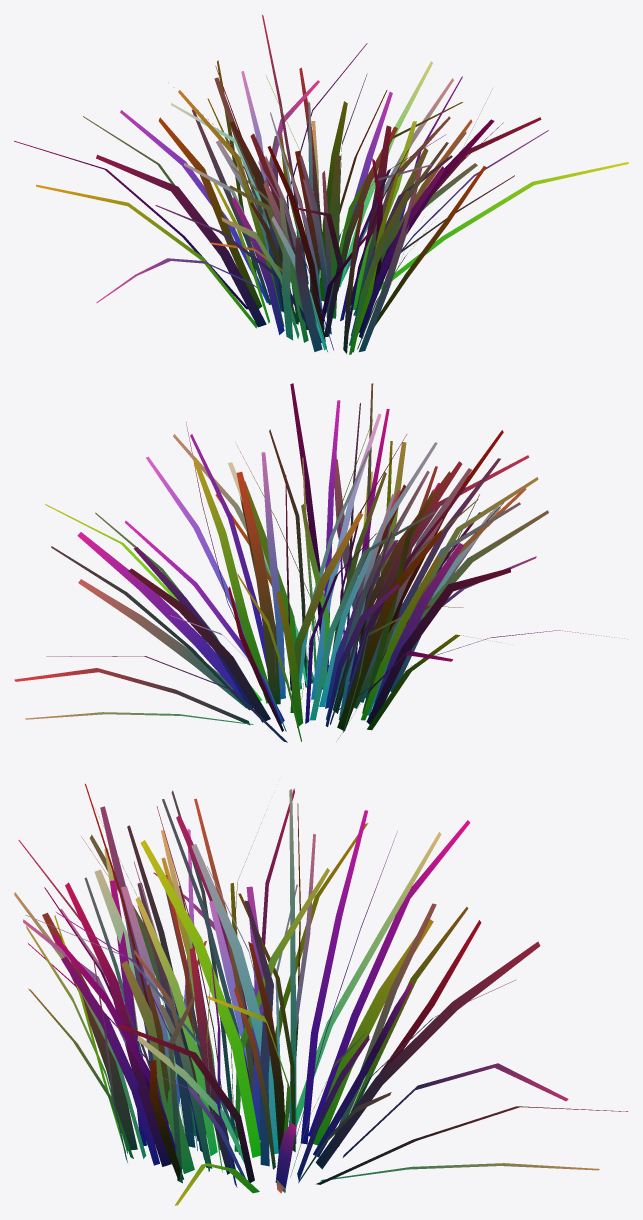
File: Wild_Grass_vlkhcbxia_Low_vlkhcbxia_VarG_LOD1.fbx
3 renders of one model, top to bottom at view 1: azimuth 30°, elevation 25°; view 2: azimuth 150°, elevation 25°; view 3: azimuth 270°, elevation 25°, orthographic. The views are drawn at different scales.
Visible parts, largest first — view 1: _4boa_VarG_LOD3; view 2: _4boa_VarG_LOD3; view 3: _4boa_VarG_LOD3.
Boxes of the visible parts, x1,y1,x2,y2 form: _4boa_VarG_LOD3: (14,15,628,354); _4boa_VarG_LOD3: (14,383,627,742); _4boa_VarG_LOD3: (14,784,628,1205).
Size of the model in its own units: 25.38 by 11.21 by 19.67.
